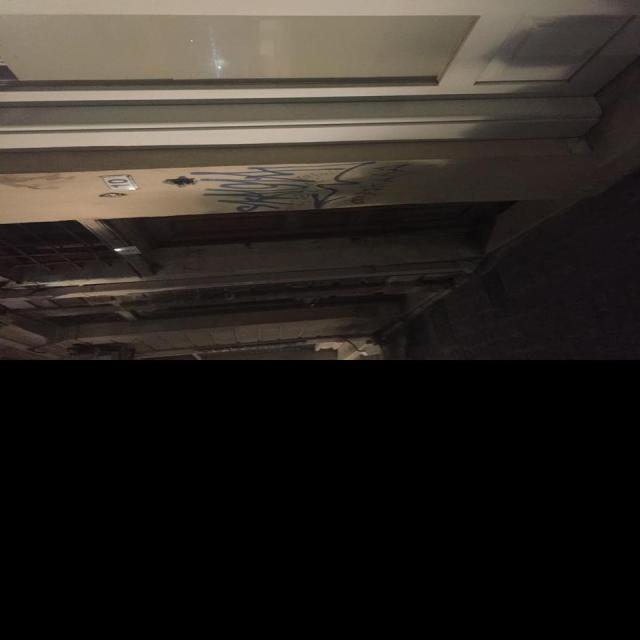nonspitting: (191, 162, 409, 212)
